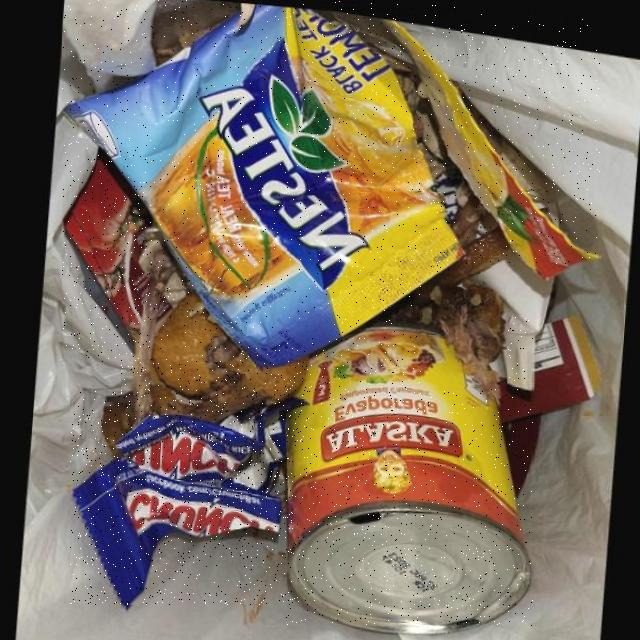biowaste: (148, 286, 310, 419), (122, 235, 174, 426), (421, 275, 507, 387)
metal: (284, 316, 533, 626)
wrapper: (62, 0, 462, 362), (381, 11, 600, 267), (71, 391, 305, 605), (64, 151, 153, 351)
